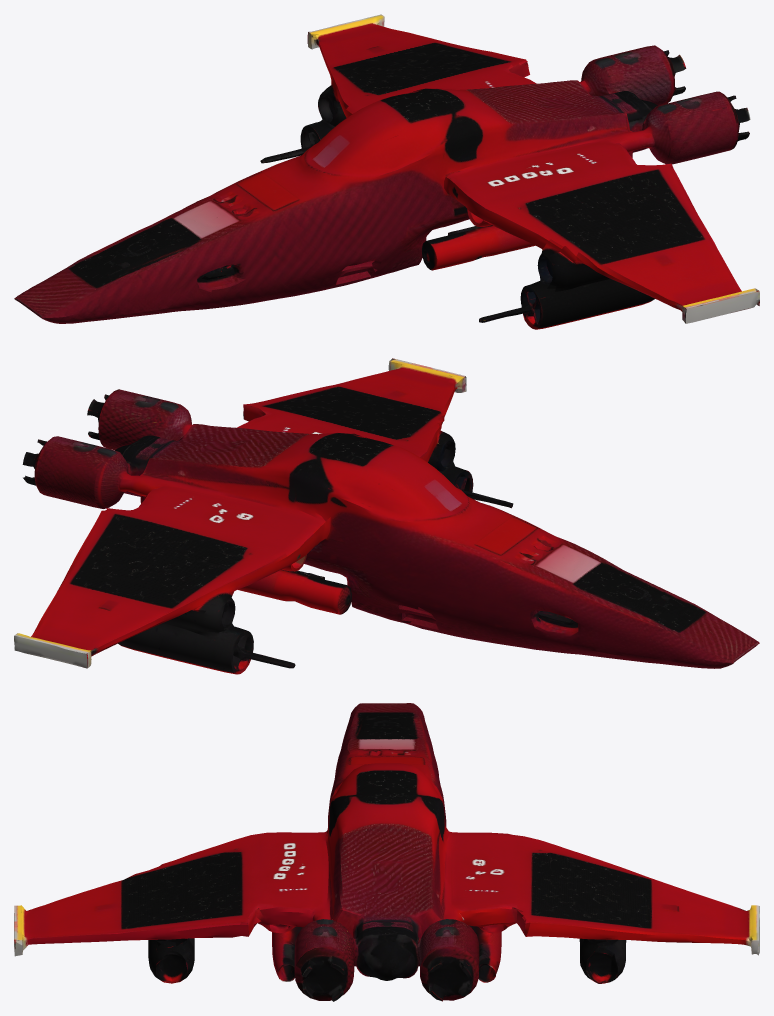
The model's file is ship16.glb.
The picture shows the model from 3 angles, top to bottom: view 1: azimuth 30°, elevation 25°; view 2: azimuth 150°, elevation 25°; view 3: azimuth 270°, elevation 25°; orthographic projection.
Parts seen in each view (by area): view 1: Mesh0; view 2: Mesh0; view 3: Mesh0.
Part boxes in pixels (x1=…): Mesh0: x1=14, y1=14, x2=759, y2=329; Mesh0: x1=14, y1=358, x2=759, y2=674; Mesh0: x1=14, y1=703, x2=759, y2=1001.
Size of the model in its own units: 1.91 by 0.4039 by 1.84.
1 material, 1 textured.
